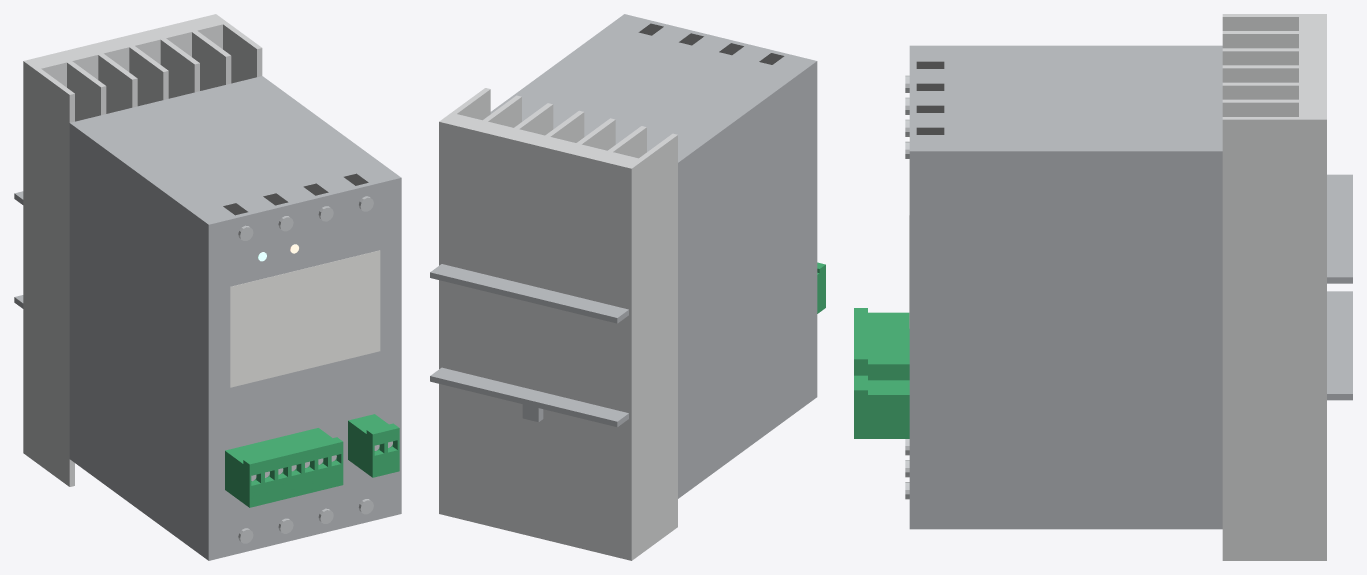
File: vfd-0.75kw.glb
The picture shows the model from 3 angles, left to right: view 1: azimuth 30°, elevation 25°; view 2: azimuth 150°, elevation 25°; view 3: azimuth 270°, elevation 25°; orthographic projection. The views are drawn at different scales.
Parts seen in each view (by area): view 1: body; view 2: body; view 3: body.
Part boxes in pixels (box(x1,y1,x2,y2)): body: box(14, 14, 401, 560); body: box(430, 14, 825, 560); body: box(854, 14, 1352, 560).
Size of what is drawn, in the model's own units: 0.072 by 0.14 by 0.1435.
